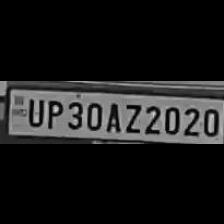0: (160, 102, 180, 134), (200, 103, 220, 135), (83, 97, 103, 128)
2: (180, 102, 200, 136), (142, 100, 160, 134)
3: (64, 97, 82, 129)
A: (103, 99, 121, 131)
P: (42, 96, 62, 128)
U: (22, 94, 44, 125)
Z: (120, 100, 142, 132)
